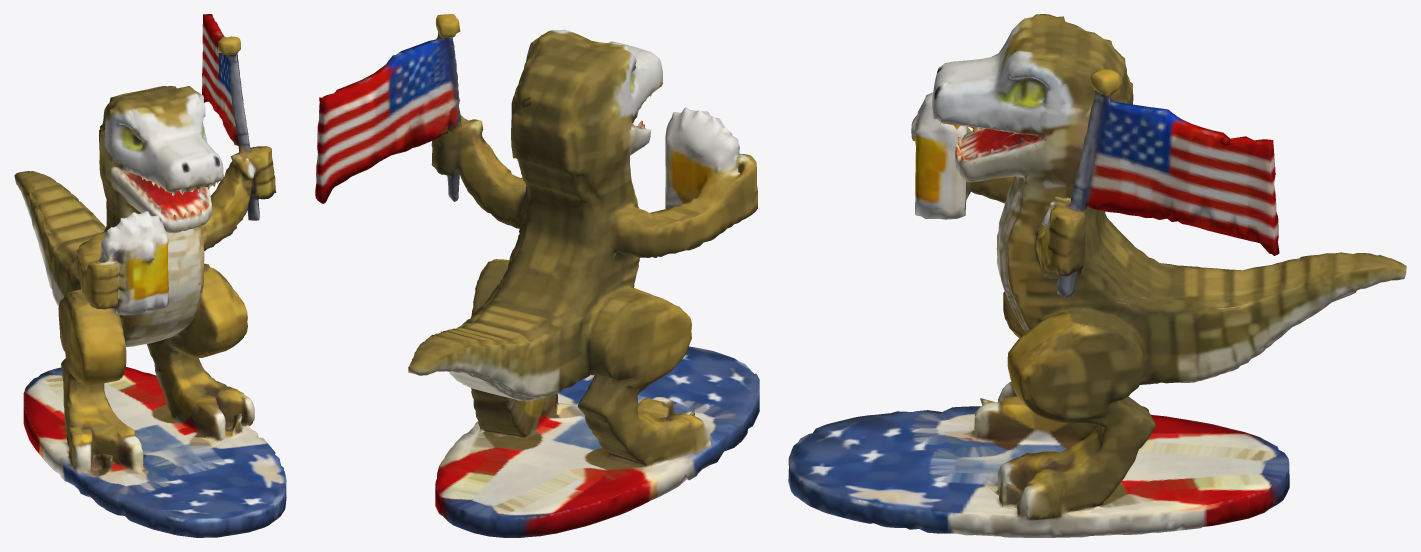
File: zucc.glb
The picture shows the model from 3 angles, left to right: view 1: azimuth 30°, elevation 25°; view 2: azimuth 150°, elevation 25°; view 3: azimuth 270°, elevation 25°; orthographic projection. The views are drawn at different scales.
Parts seen in each view (by area): view 1: model; view 2: model; view 3: model.
Part boxes in pixels (x1=…): model: x1=14, y1=14, x2=286, y2=537; model: x1=315, y1=14, x2=759, y2=537; model: x1=788, y1=14, x2=1406, y2=537.
Bounding box in the file's own units: 1.13 × 1.61 × 1.9.
Materials: 1 (1 with a texture image).
